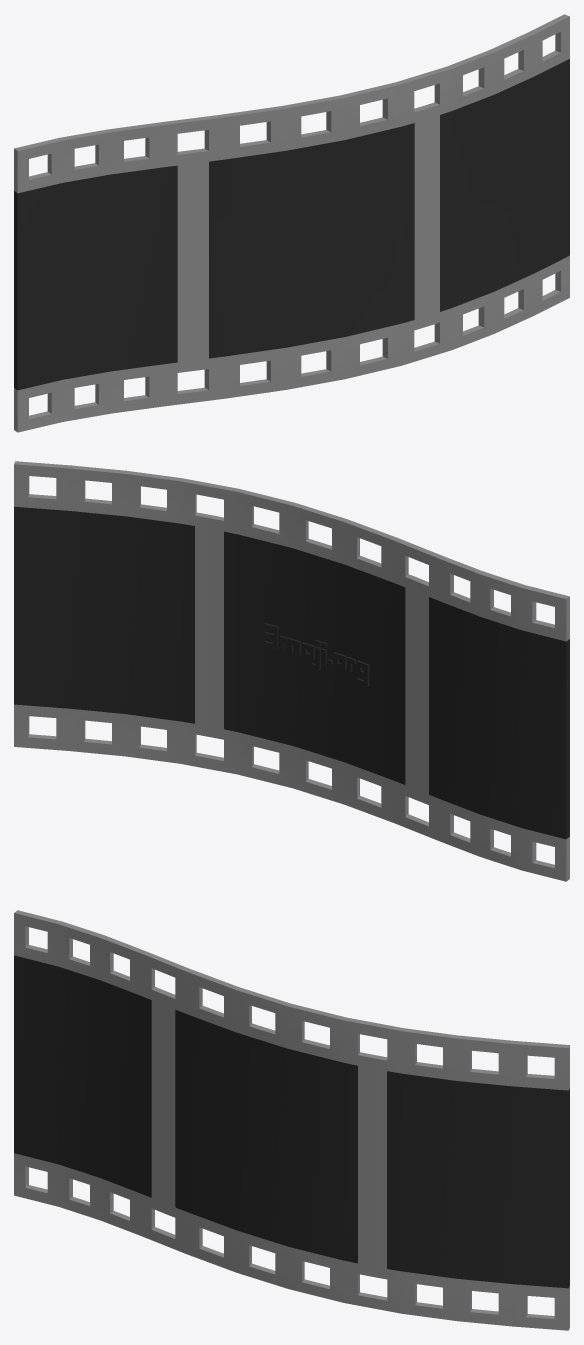
Rendered from film_frames.gltf.
3 renders of one model, top to bottom at view 1: azimuth 30°, elevation 25°; view 2: azimuth 150°, elevation 25°; view 3: azimuth 330°, elevation 25°, orthographic.
Visible parts, largest first — view 1: Cube.936; view 2: Cube.936; view 3: Cube.936.
Part boxes in pixels (bbox=[...]): Cube.936: bbox=[14, 14, 569, 432]; Cube.936: bbox=[14, 461, 569, 881]; Cube.936: bbox=[14, 910, 569, 1330].
Size of the model in its own units: 2.37 by 1.15 by 0.2341.
Materials: 1 (1 with a texture image).
